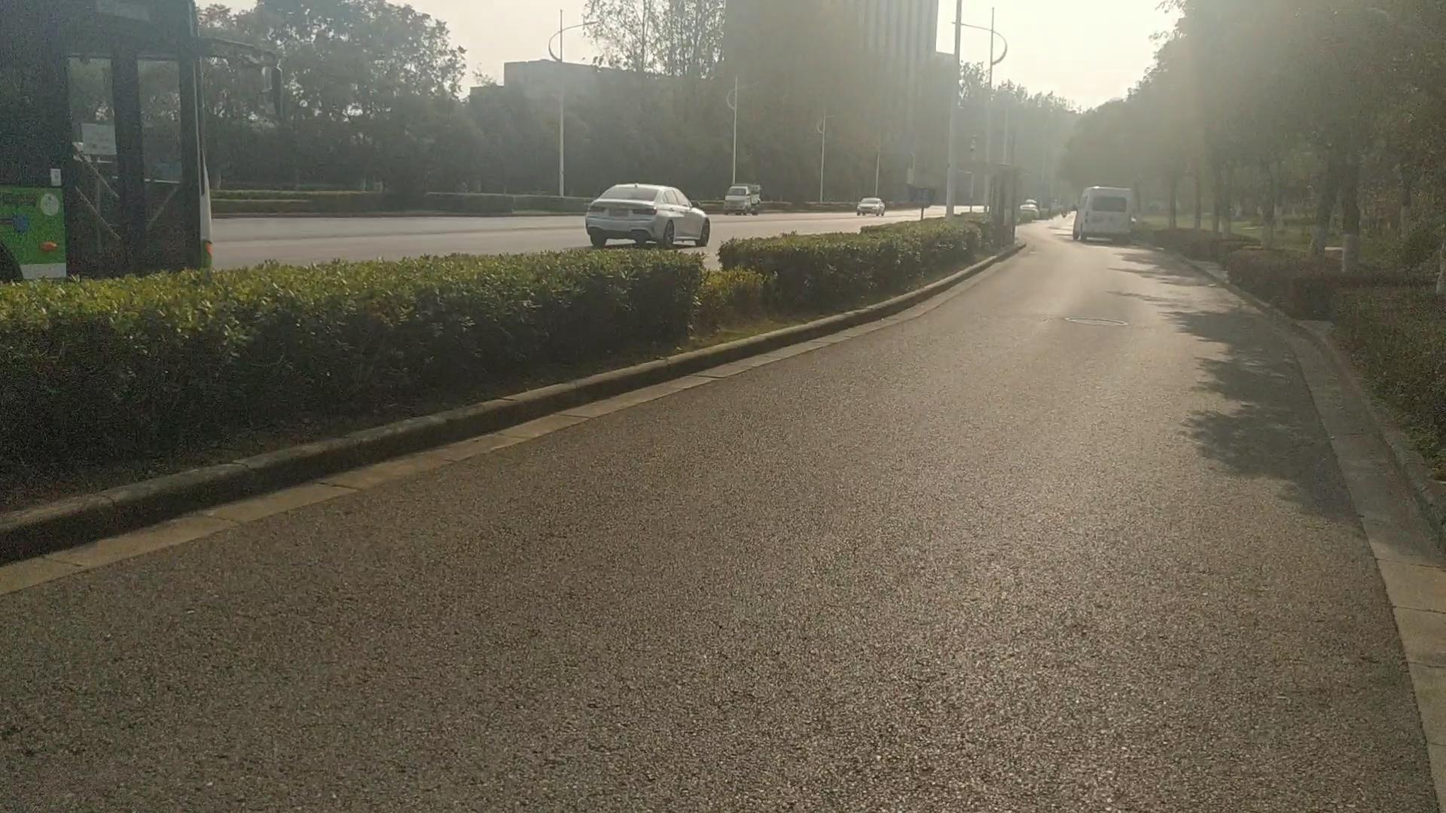car: (584, 181, 710, 250), (723, 183, 762, 215), (857, 196, 886, 218), (1017, 199, 1039, 219)
